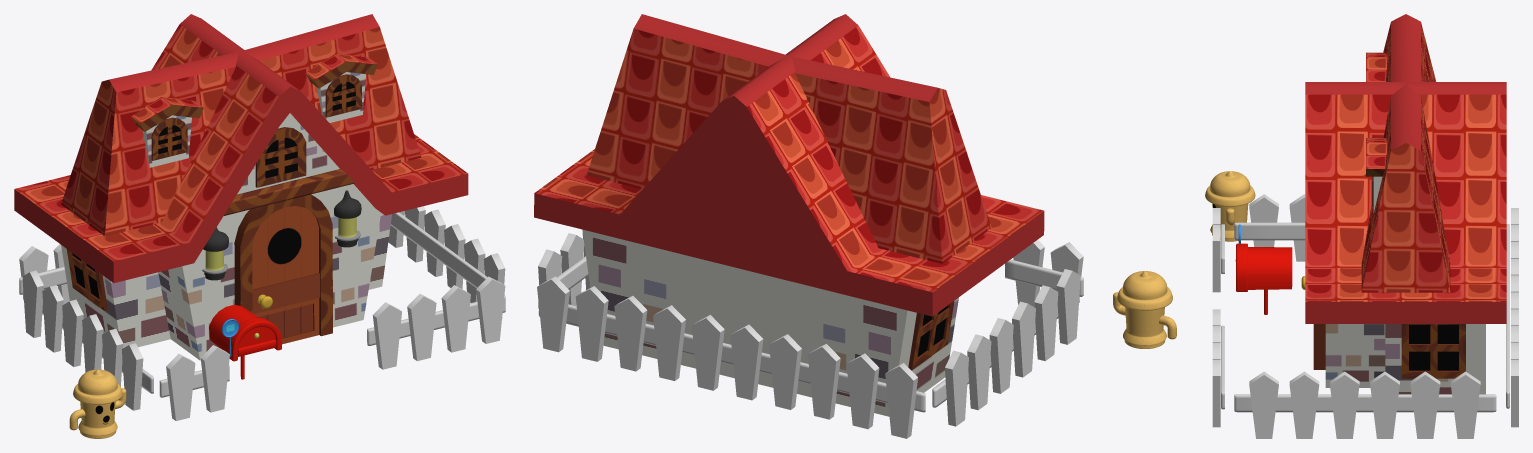
File: ac-house2.glb
3 renders of one model, left to right at view 1: azimuth 30°, elevation 25°; view 2: azimuth 150°, elevation 25°; view 3: azimuth 270°, elevation 25°, orthographic. The views are drawn at different scales.
Parts seen in each view (by area): view 1: House_Roof_Front, House_Roof_Side, House_Extended_Front, Door, House_Base, Door_Marque, Gyroid, House_Roof_Bar, Window, Fence_Bar_Right, Fence_Individual001, Fence_Individual005 (+31 smaller); view 2: House_Roof_Front, House_Roof_Side, House_Base, Gyroid, Fence_Bar_Back, Fence_Individual024, Fence_Individual025, Fence_Individual022, Fence_Individual023, Fence_Individual021, Fence_Individual017, Fence_Individual016 (+15 smaller); view 3: House_Roof_Front, House_Roof_Side, Window_Squared_Right, House_Extended_Front, House_Base, Fence_Bar_Right, Gyroid, Mailbox_Main, Fence_Individual009, Fence_Individual007, Fence_Individual010, Fence_Individual011 (+14 smaller).
Part boxes in pixels (box(x1,y1,x2,y2)): House_Roof_Front: box(14, 14, 468, 282); House_Roof_Side: box(61, 14, 421, 236); House_Extended_Front: box(158, 113, 380, 360); Door: box(252, 206, 320, 344); House_Base: box(61, 213, 391, 347); Door_Marque: box(234, 194, 332, 336); Gyroid: box(73, 369, 122, 438); House_Roof_Bar: box(224, 169, 354, 215); Window: box(255, 127, 306, 187); Fence_Bar_Right: box(390, 212, 487, 287); Fence_Individual001: box(200, 345, 229, 412); Fence_Individual005: box(476, 276, 505, 343); House_Roof_Front: box(534, 14, 1044, 316); House_Roof_Side: box(586, 14, 991, 263); House_Base: box(582, 229, 958, 416); Gyroid: box(1117, 271, 1172, 348); Fence_Bar_Back: box(538, 304, 925, 412); Fence_Individual024: box(846, 353, 879, 429); Fence_Individual025: box(885, 363, 917, 438); Fence_Individual022: box(769, 334, 801, 409); Fence_Individual023: box(807, 344, 840, 419); Fence_Individual021: box(730, 324, 763, 400); Fence_Individual017: box(575, 286, 608, 361); Fence_Individual016: box(537, 276, 569, 352); House_Roof_Front: box(1305, 82, 1506, 323); House_Roof_Side: box(1361, 14, 1450, 292); Window_Squared_Right: box(1401, 324, 1465, 378); House_Extended_Front: box(1325, 324, 1385, 387); House_Base: box(1385, 324, 1485, 394); Fence_Bar_Right: box(1234, 394, 1496, 412); Gyroid: box(1205, 171, 1255, 241); Mailbox_Main: box(1248, 247, 1292, 289); Fence_Individual009: box(1370, 371, 1399, 438); Fence_Individual007: box(1289, 371, 1319, 438); Fence_Individual010: box(1410, 371, 1440, 438); Fence_Individual011: box(1450, 371, 1480, 438).
Size of the model in its own units: 129 by 73.95 by 77.88.
Materials: 22 (14 with a texture image).
